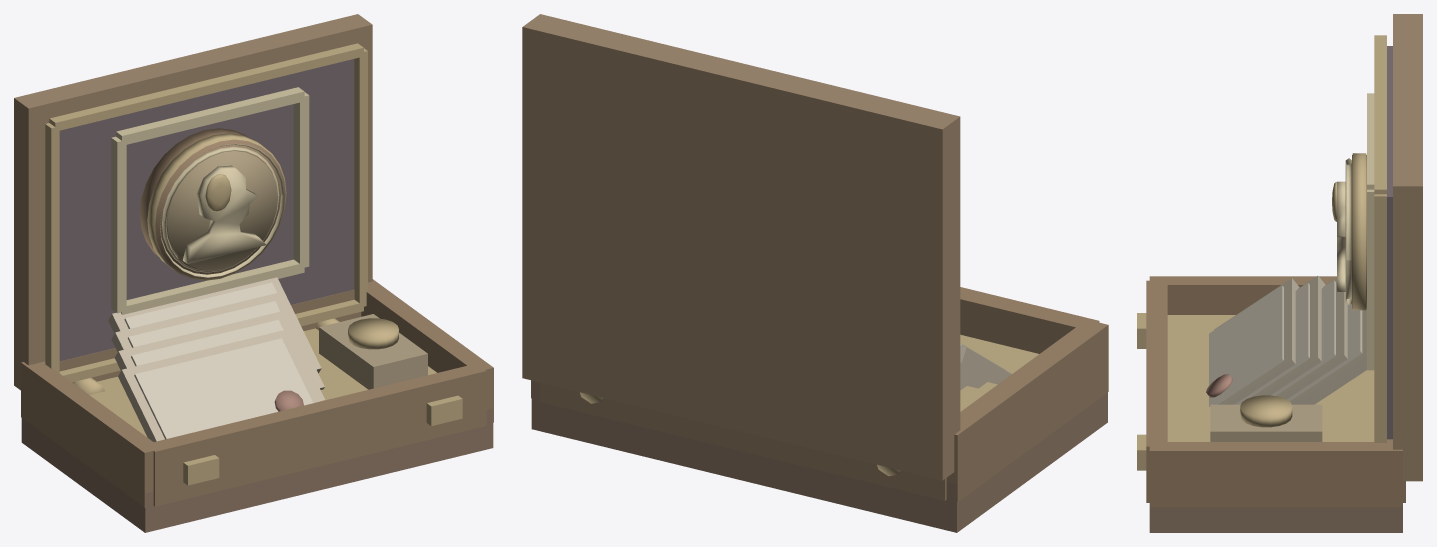
Rendered from ART-30.glb.
3 views of the same model, side by side, from view 1: azimuth 30°, elevation 25°; view 2: azimuth 150°, elevation 25°; view 3: azimuth 270°, elevation 25° (orthographic). The views are drawn at different scales.
Parts seen in each view (by area): view 1: world; view 2: world; view 3: world.
Boxes of the visible parts, x1=… form: world: x1=14, y1=14, x2=493, y2=532; world: x1=522, y1=14, x2=1108, y2=532; world: x1=1137, y1=14, x2=1422, y2=532.
Bounding box in the file's own units: 2 × 1.84 × 1.38.
